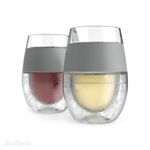cups: (61, 22, 133, 129), (20, 31, 73, 118)
